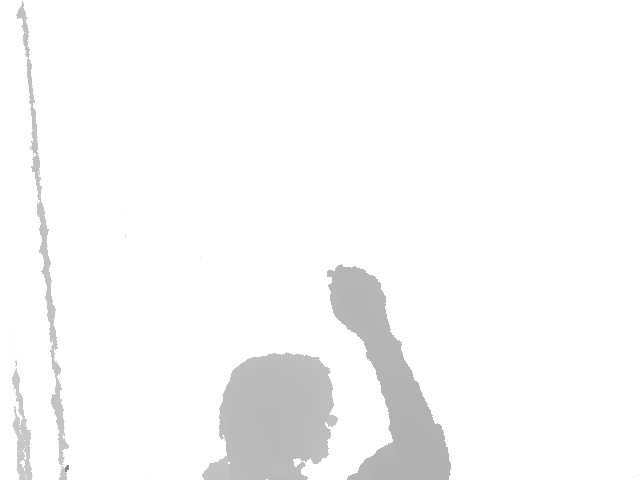hand: (326, 264, 389, 339)
head: (218, 353, 338, 465)
person: (202, 264, 452, 480)
